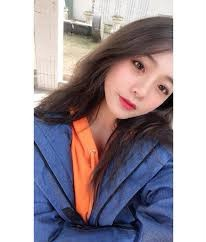people: (41, 21, 174, 242)
